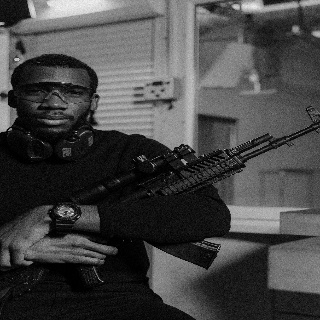rifle: (1, 106, 320, 292)
